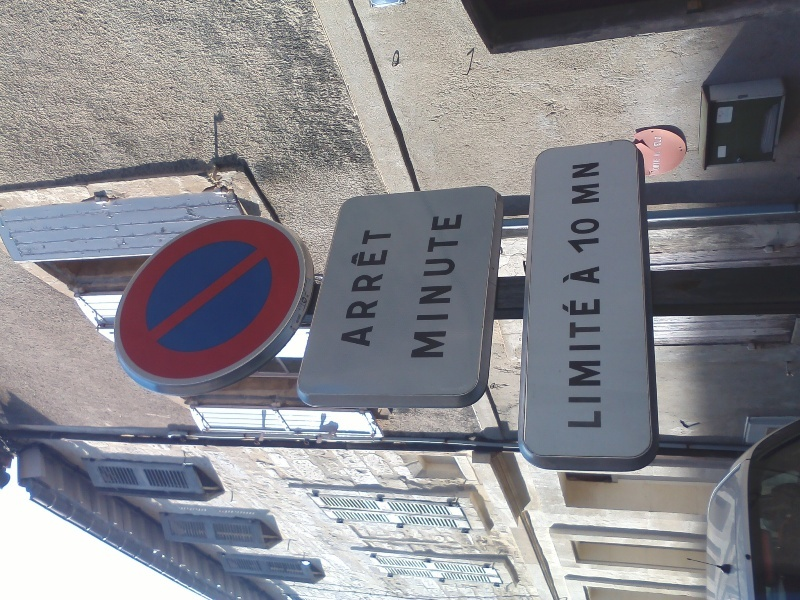text: (433, 213, 448, 360), (449, 213, 463, 360), (577, 298, 592, 430), (562, 298, 576, 430), (369, 227, 384, 350), (356, 227, 368, 350), (593, 298, 604, 430), (385, 227, 394, 350), (577, 161, 592, 205), (577, 218, 592, 254), (577, 263, 592, 287), (593, 161, 601, 205), (567, 218, 576, 254), (563, 263, 576, 287), (593, 218, 601, 254), (571, 161, 576, 205), (593, 263, 601, 287), (657, 136, 662, 151), (657, 158, 661, 174), (654, 158, 656, 174), (654, 136, 656, 151), (657, 151, 661, 157), (654, 151, 656, 157)
